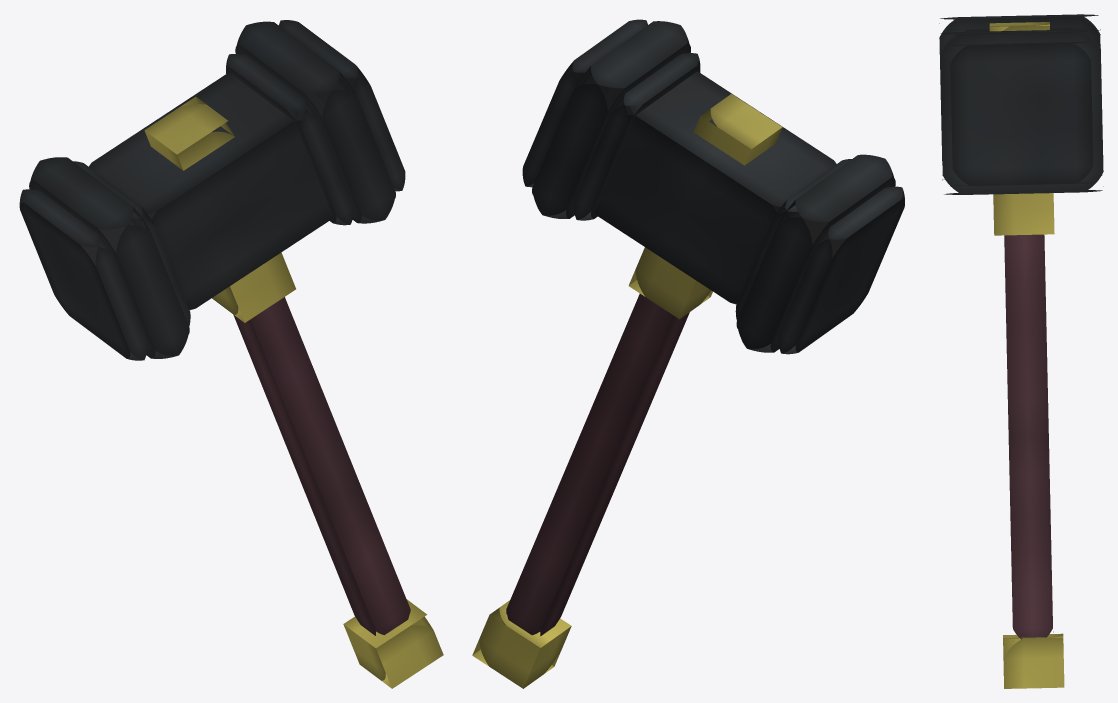
Rendered from hummer_sk.obj.
3 renders of one model, left to right at view 1: azimuth 30°, elevation 25°; view 2: azimuth 150°, elevation 25°; view 3: azimuth 270°, elevation 25°, orthographic. The views are drawn at different scales.
Parts seen in each view (by area): view 1: encaixe_cabo_baixo; view 2: encaixe_cabo_baixo; view 3: encaixe_cabo_baixo.
Boxes of the visible parts, x1,y1,x2,y2 form: encaixe_cabo_baixo: [19, 20, 443, 688]; encaixe_cabo_baixo: [472, 19, 904, 688]; encaixe_cabo_baixo: [939, 14, 1103, 688].
Bounding box in the file's own units: 1.84 × 3.01 × 0.7283.
